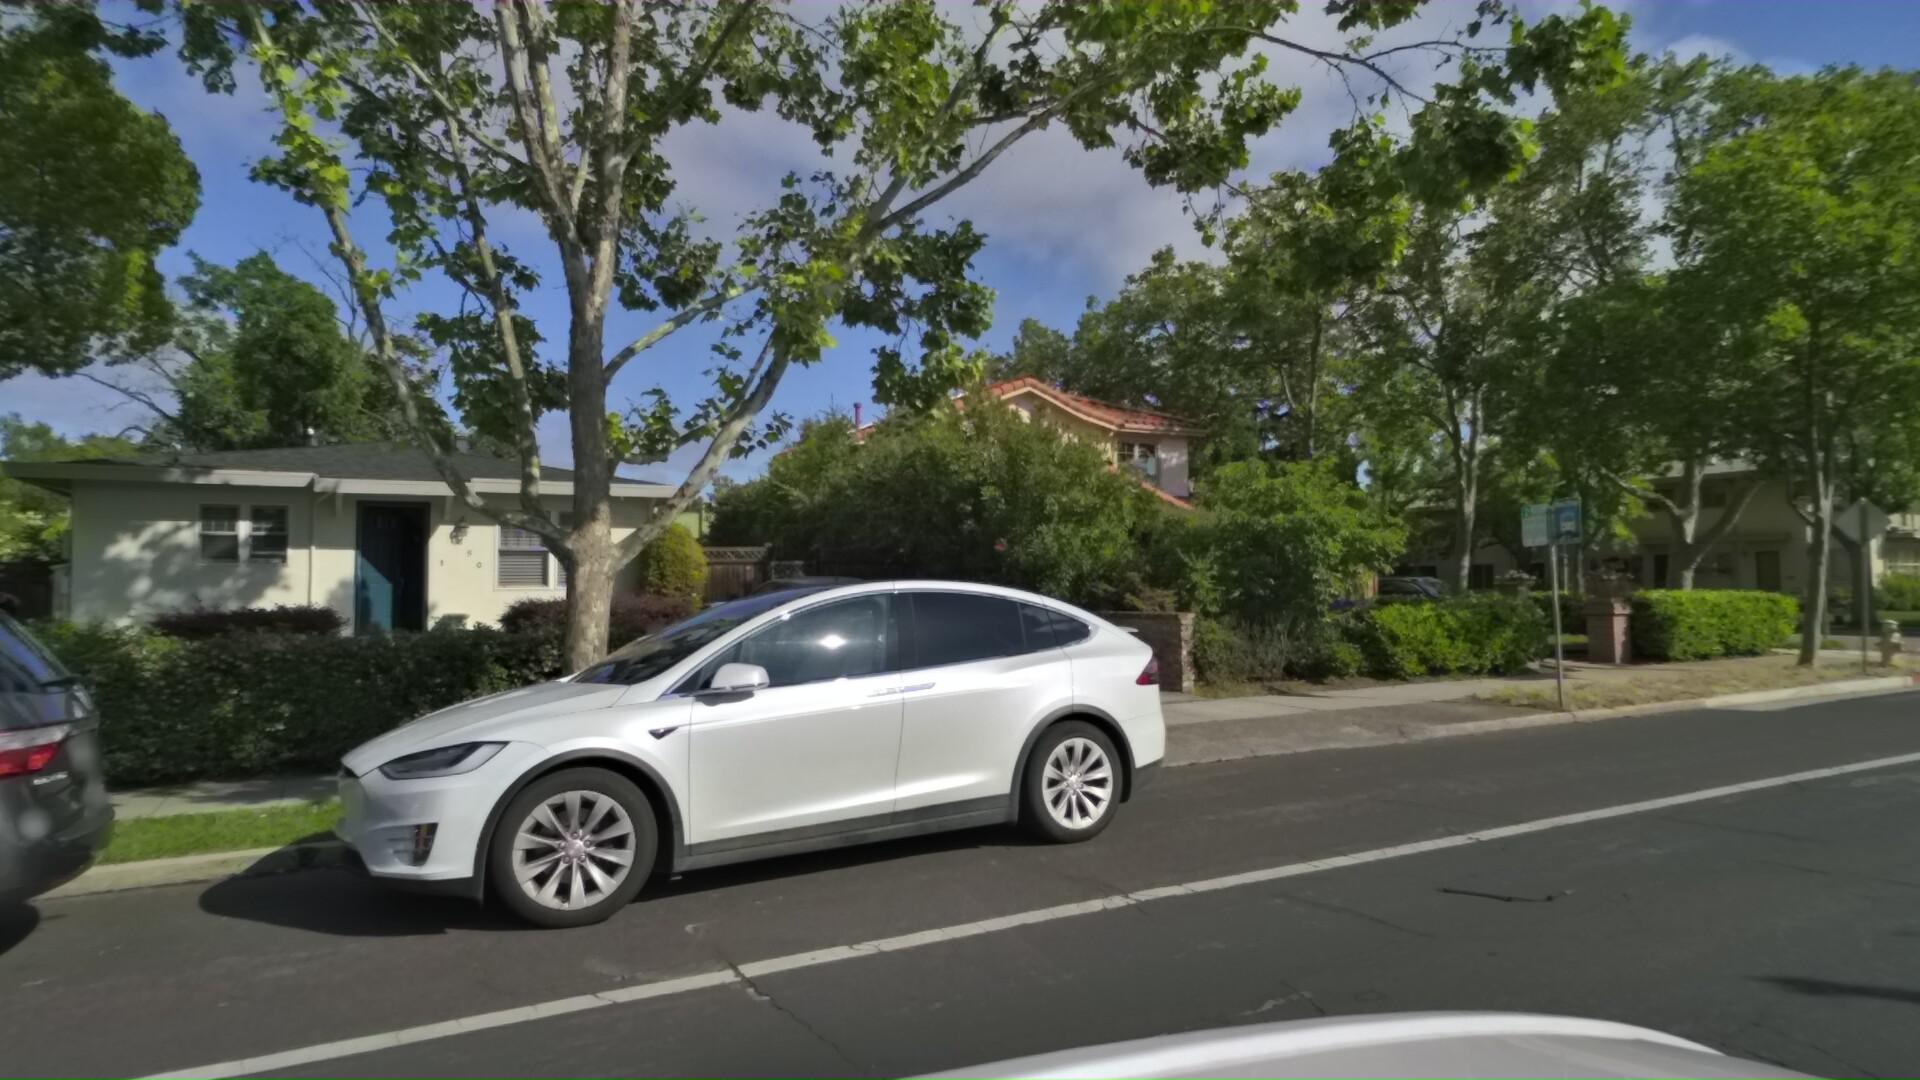car: (240, 567, 1185, 1009), (0, 556, 78, 1080), (680, 568, 924, 702), (1317, 568, 1507, 636)
